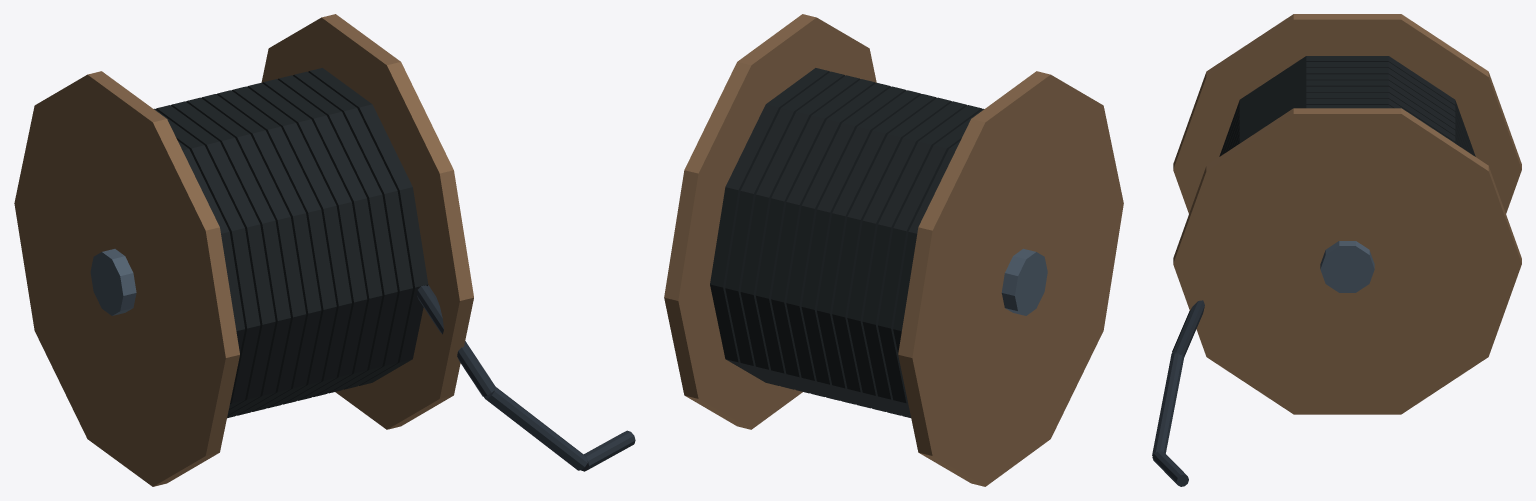
File: F-12_reel.glb
The picture shows the model from 3 angles, left to right: view 1: azimuth 30°, elevation 25°; view 2: azimuth 150°, elevation 25°; view 3: azimuth 270°, elevation 25°; orthographic projection. The views are drawn at different scales.
Parts seen in each view (by area): view 1: F-12_reel; view 2: F-12_reel; view 3: F-12_reel.
Boxes of the visible parts, x1,y1,x2,y2 form: F-12_reel: (14, 14, 635, 486); F-12_reel: (664, 14, 1123, 486); F-12_reel: (1152, 14, 1521, 486).
Size of the model in its own units: 0.8354 by 0.7017 by 0.7636.
